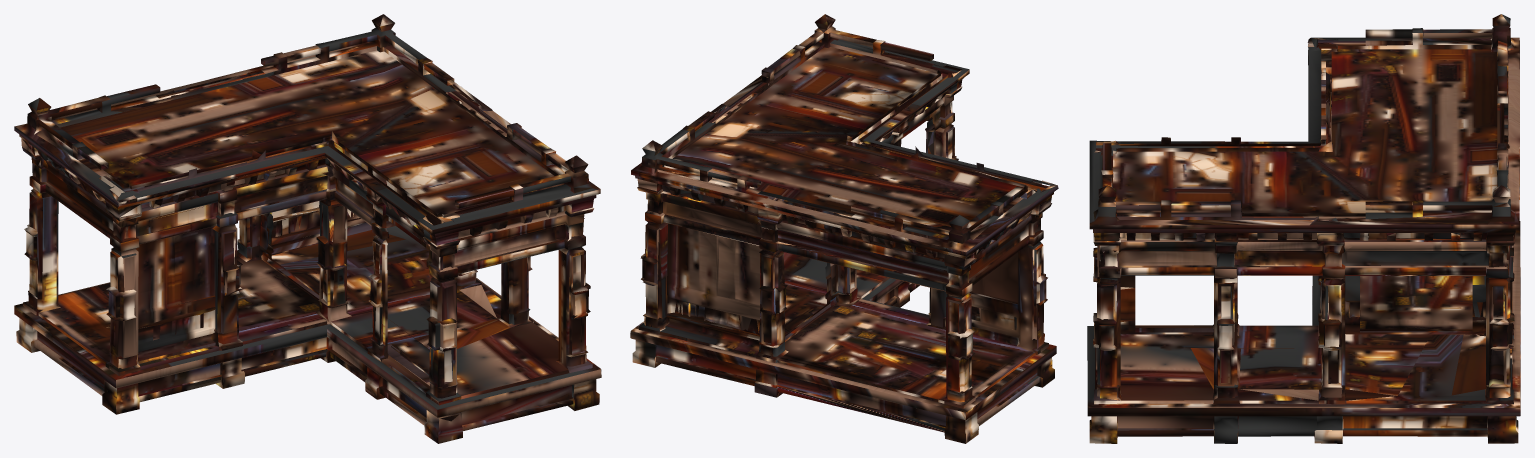
The model's file is HallWayWithTurn1_LOD1.fbx.
3 views of the same model, side by side, from view 1: azimuth 30°, elevation 25°; view 2: azimuth 150°, elevation 25°; view 3: azimuth 270°, elevation 25° (orthographic). The views are drawn at different scales.
Parts seen in each view (by area): view 1: HallWayWithTurn1_LOD1; view 2: HallWayWithTurn1_LOD1; view 3: HallWayWithTurn1_LOD1.
Part boxes in pixels (box(x1,y1,x2,y2)): HallWayWithTurn1_LOD1: box(14, 14, 601, 443); HallWayWithTurn1_LOD1: box(630, 14, 1058, 443); HallWayWithTurn1_LOD1: box(1087, 14, 1520, 443).
Bounding box in the file's own units: 7.88 × 4.96 × 7.71.
Materials: 1 (1 with a texture image).
